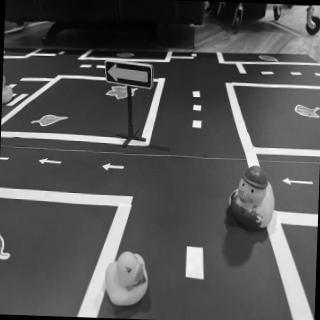duck_regular: (104, 247, 155, 311)
duck_specialty: (224, 165, 279, 234), (3, 70, 17, 106)
road_crosswalk: (3, 89, 34, 111)
road_oneway: (283, 177, 317, 190), (101, 161, 127, 176), (39, 156, 66, 169)
sign_oneway_left: (105, 60, 156, 92)
